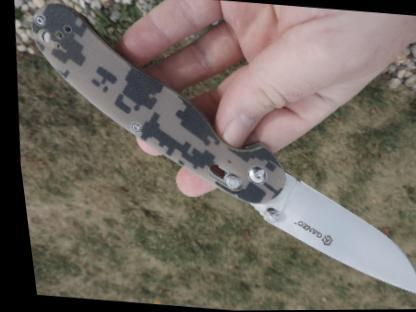knife: (141, 84, 415, 308)
